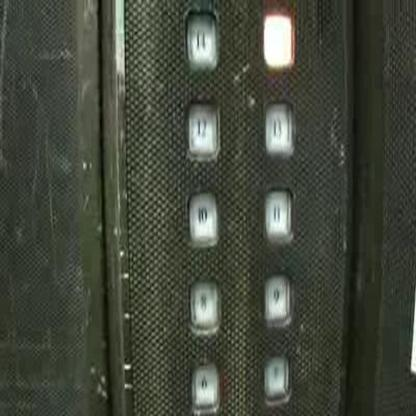10: (185, 185, 219, 247)
11: (260, 183, 297, 247)
12: (184, 97, 222, 163)
13: (262, 98, 296, 159)
8: (188, 274, 223, 335)
9: (261, 268, 294, 328)
blur: (184, 5, 219, 73), (260, 346, 292, 406), (190, 356, 220, 413)
empty: (260, 10, 296, 71)
